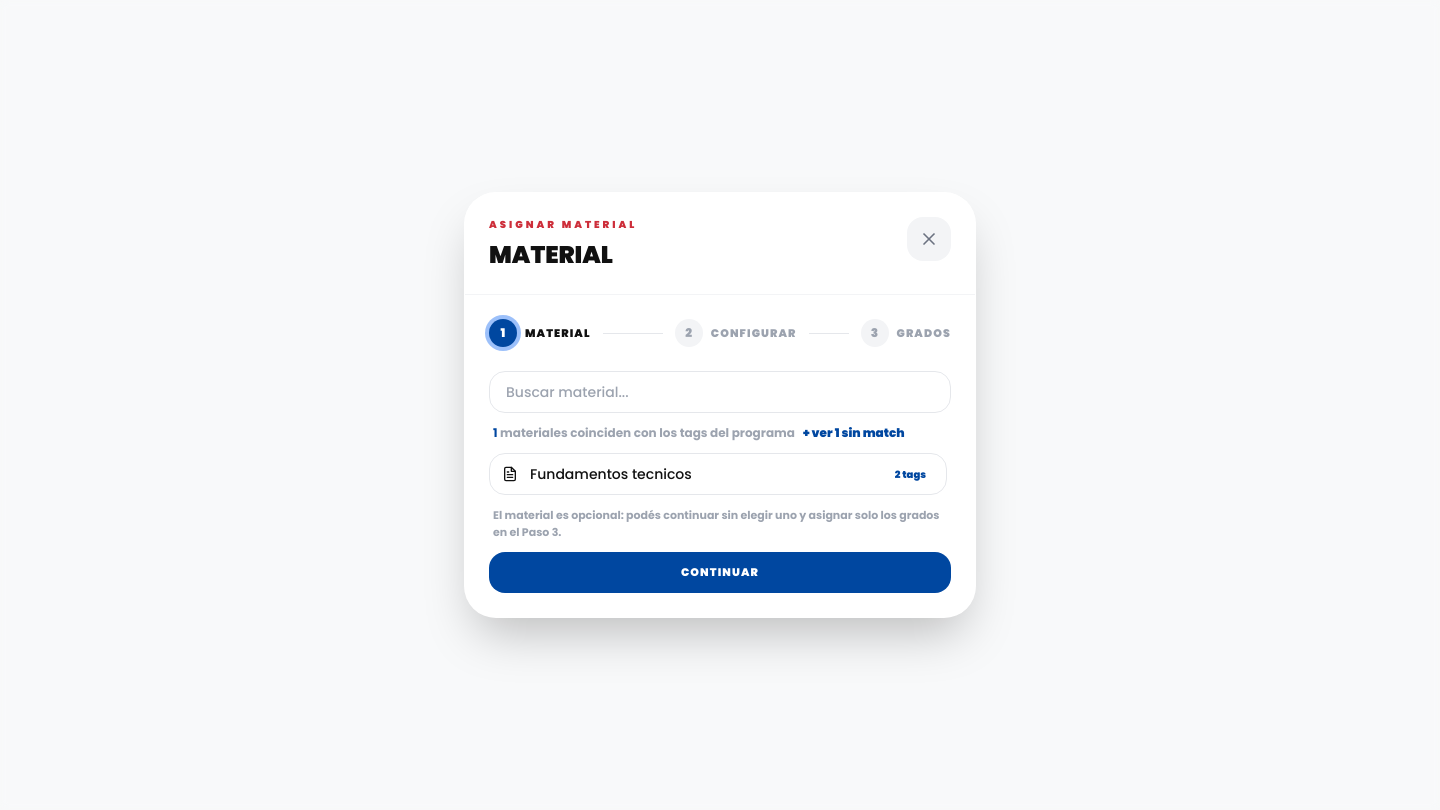
it: AsignarMaterialWizard › Paso 1: seleccion de material › el material es opcional: Continuar esta habilitado sin elegir ninguno y sigue habilitado al elegir uno
Expected: the button "Continuar" is enabled, x1=489 y1=552 x2=951 y2=593
Expected: the text "El material es opcional" is shown, x1=493 y1=507 x2=940 y2=540
Click the button "Fundamentos tecnicos 2 tags": x=611, y=474 x1=489 y1=453 x2=947 y2=495
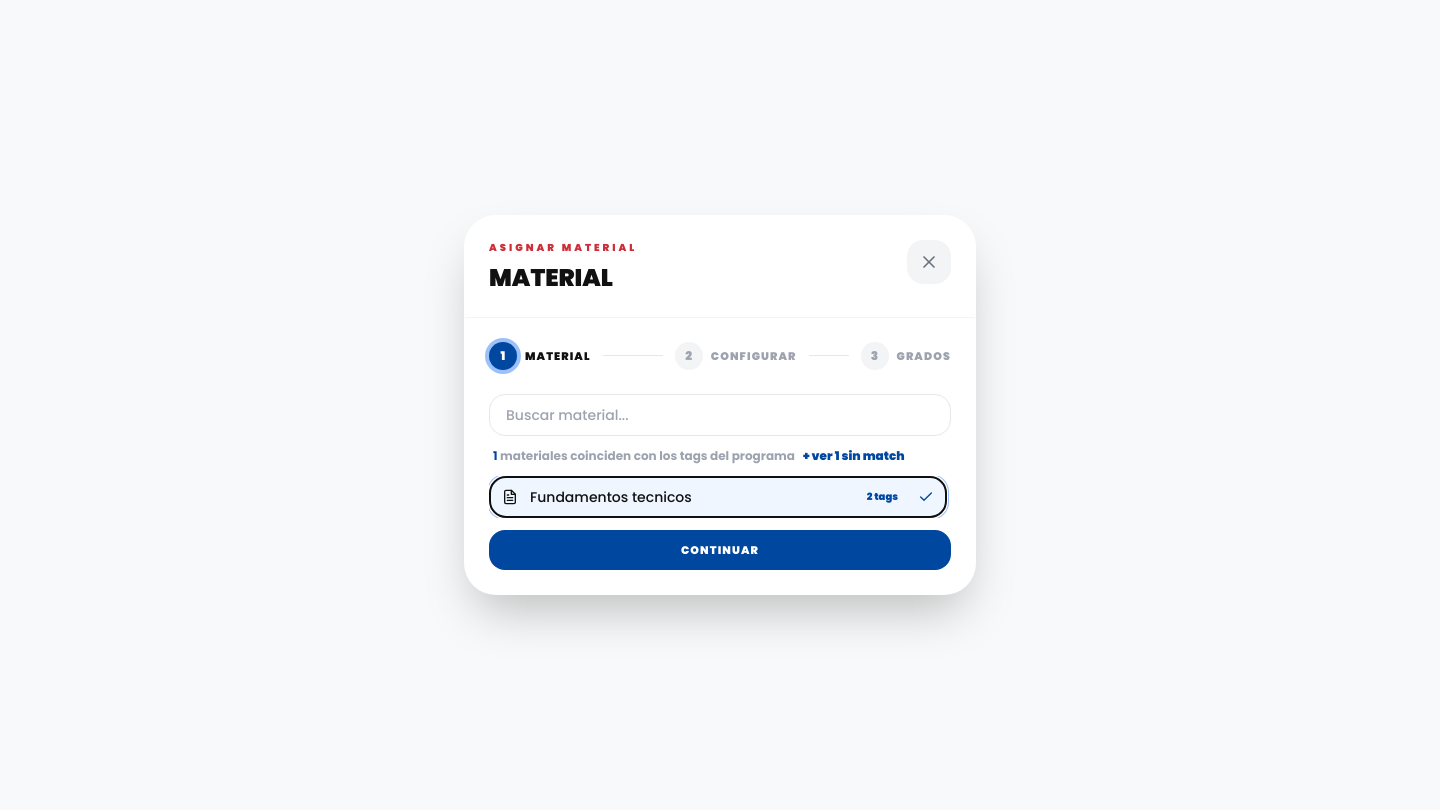
Expected: the button "Continuar" is enabled, x1=489 y1=530 x2=951 y2=570
Expected: the text "El material es opcional" is gone
